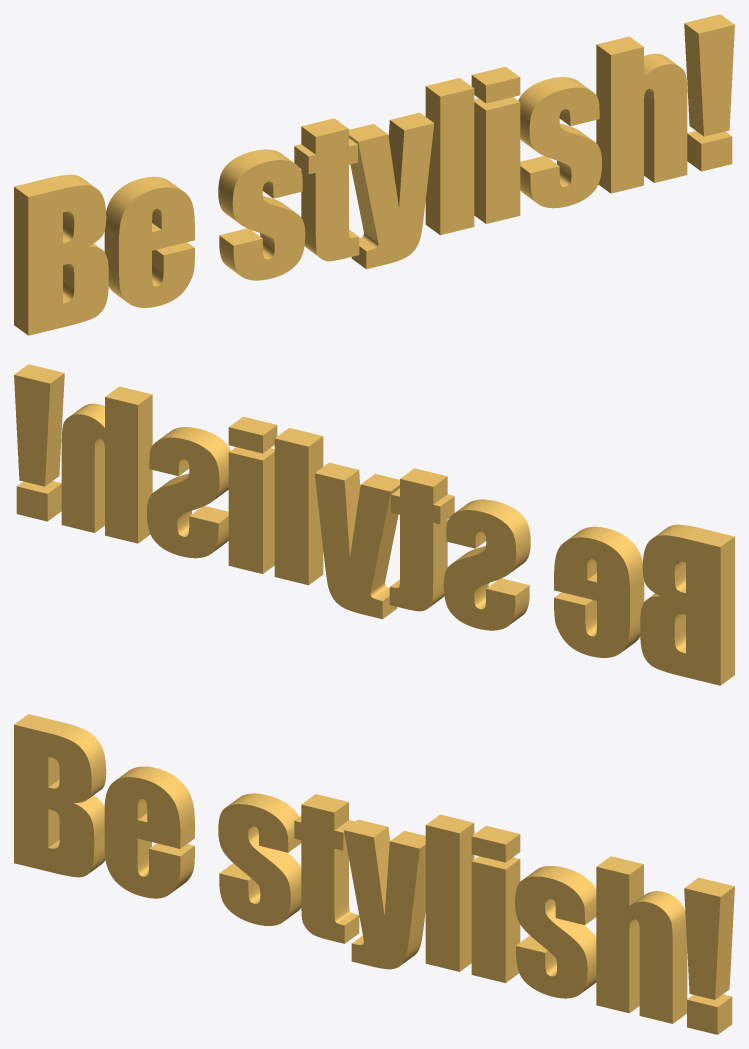
File: red.glb
3 views of the same model, one above another, from view 1: azimuth 30°, elevation 25°; view 2: azimuth 150°, elevation 25°; view 3: azimuth 330°, elevation 25° (orthographic).
Parts seen in each view (by area): view 1: Text; view 2: Text; view 3: Text.
Boxes of the visible parts, x1=… form: Text: x1=14, y1=14, x2=734, y2=335; Text: x1=14, y1=364, x2=734, y2=685; Text: x1=14, y1=714, x2=734, y2=1034.
Bounding box in the file's own units: 2.81 × 0.5881 × 0.1.
1 material, 1 textured.
